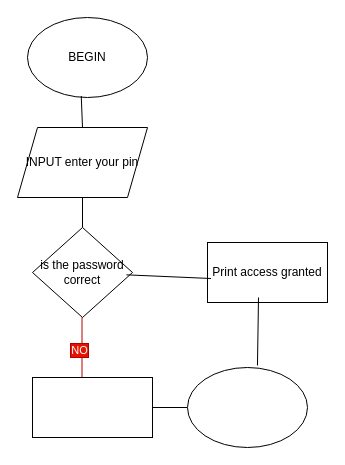
This 345x465 diagram has some shape labels left out. Each missing label, with the centre of its shape:
"END" belongs at point (247, 407).
"Print access denied" belongs at point (92, 407).
